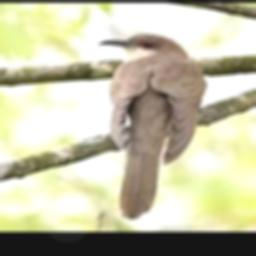Cuckoo: (99, 33, 206, 219)
